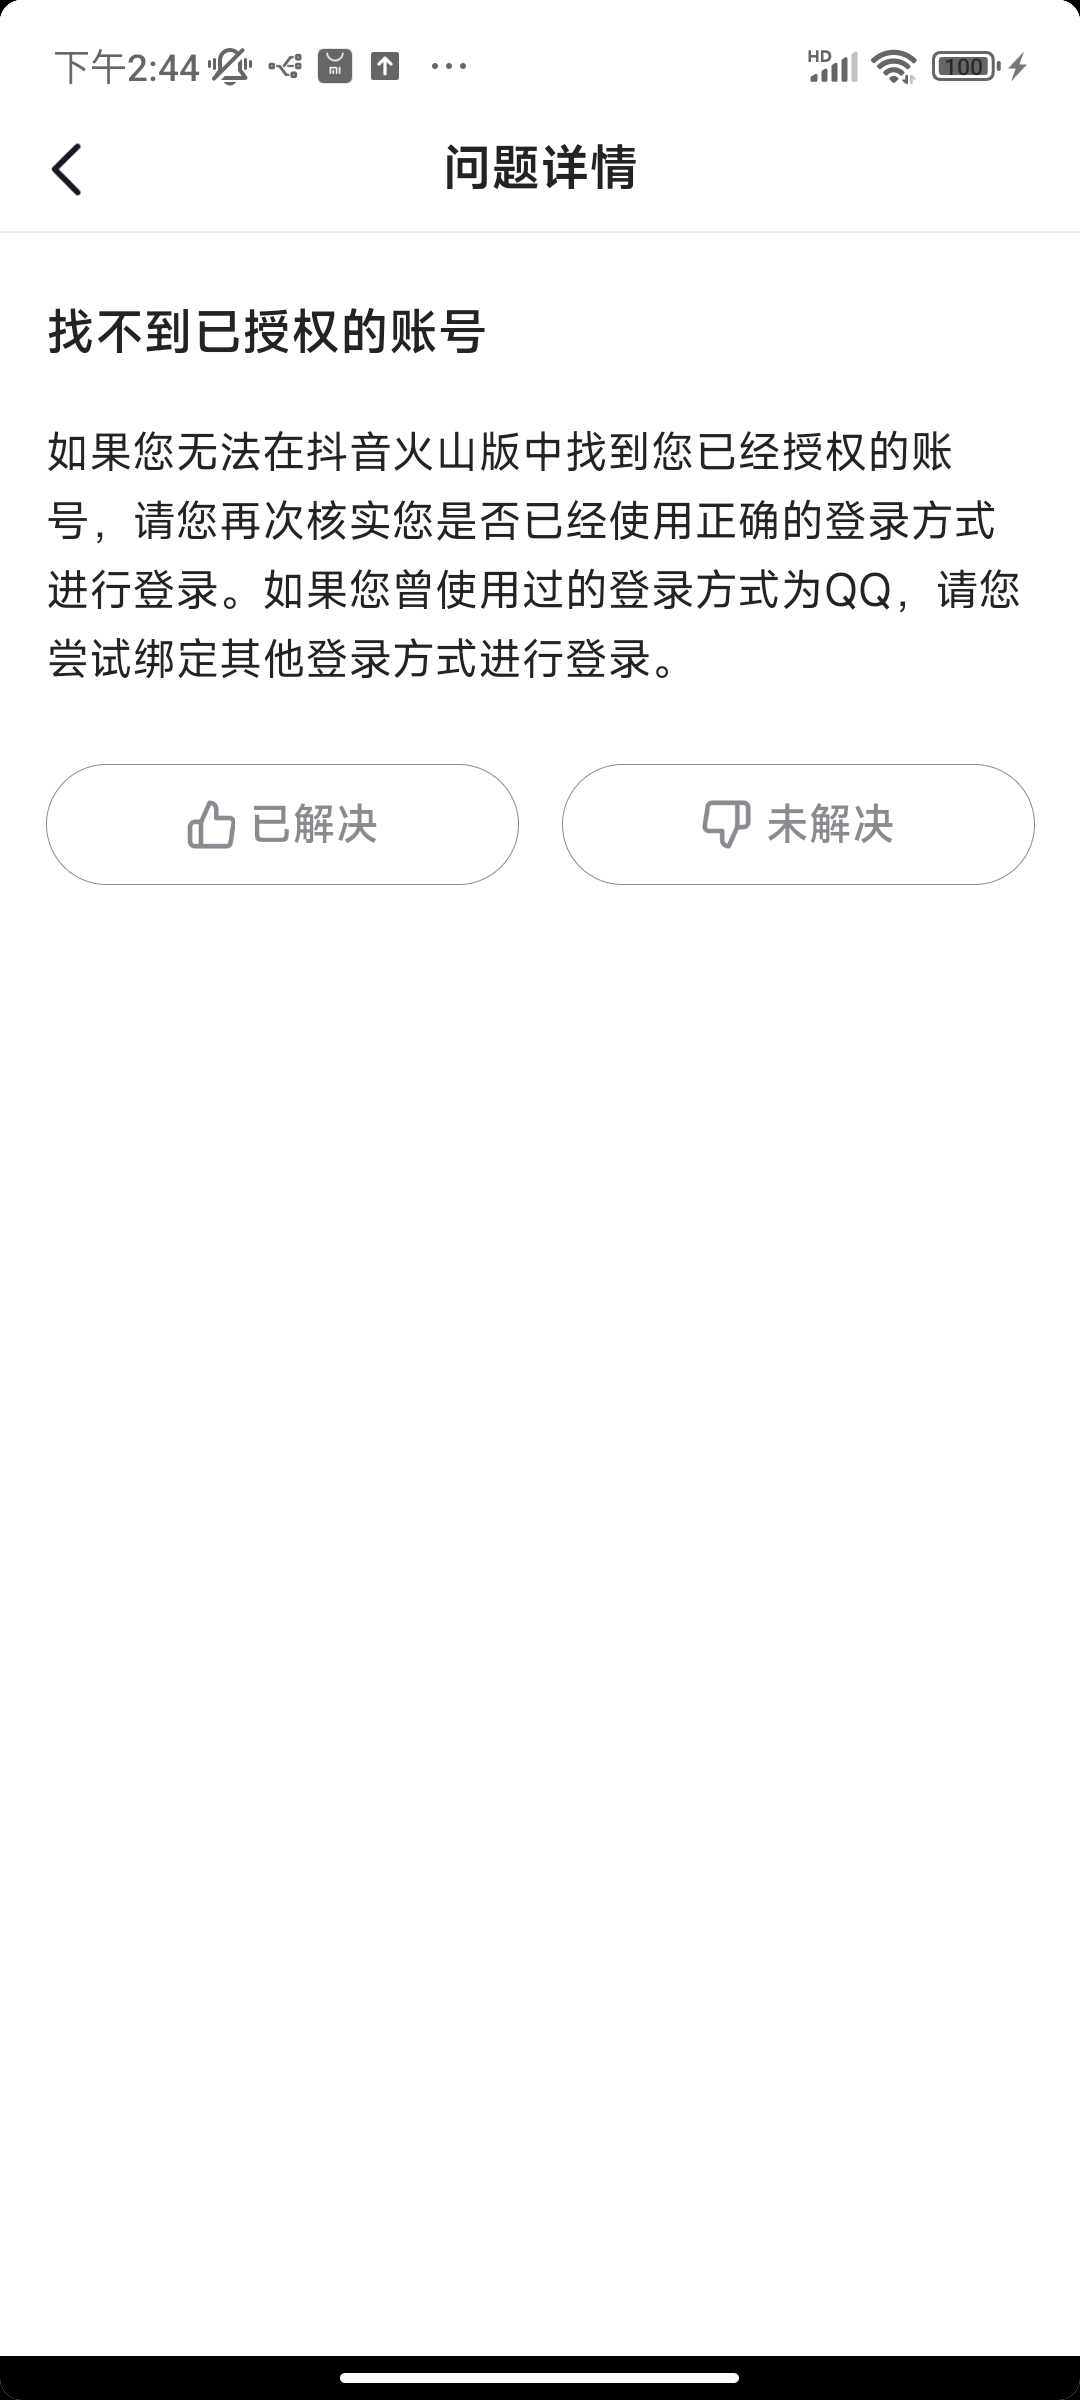ui_group: (41, 745, 535, 912), (561, 745, 1039, 900)
